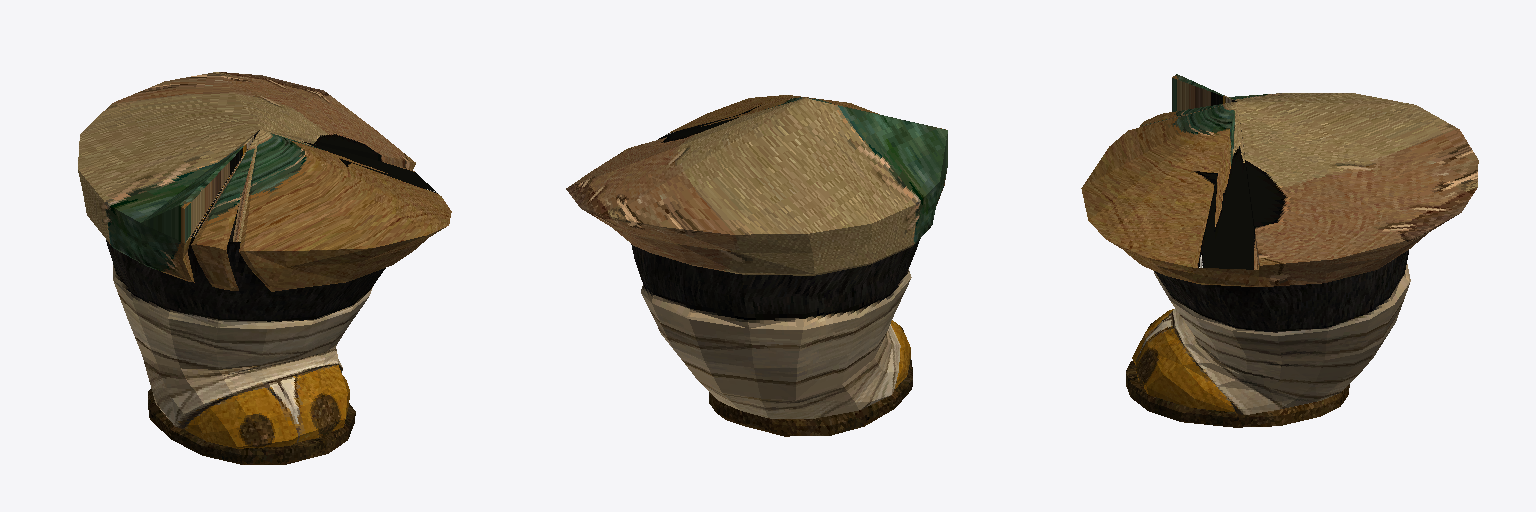
3 views of the same model, side by side, from view 1: azimuth 30°, elevation 25°; view 2: azimuth 150°, elevation 25°; view 3: azimuth 270°, elevation 25° (orthographic).
Parts seen in each view (by area): view 1: polySurface23 polySurface22 polySurface20 polySurface14 polySurf; view 2: polySurface23 polySurface22 polySurface20 polySurface14 polySurf; view 3: polySurface23 polySurface22 polySurface20 polySurface14 polySurf.
Boxes of the visible parts, box(x1,y1,x2,y2) form: polySurface23 polySurface22 polySurface20 polySurface14 polySurf: box(78, 72, 451, 464); polySurface23 polySurface22 polySurface20 polySurface14 polySurf: box(566, 95, 947, 436); polySurface23 polySurface22 polySurface20 polySurface14 polySurf: box(1081, 74, 1478, 427).
Bounding box in the file's own units: 0.4542 × 0.4227 × 0.5199.
1 materials, 1 textured.